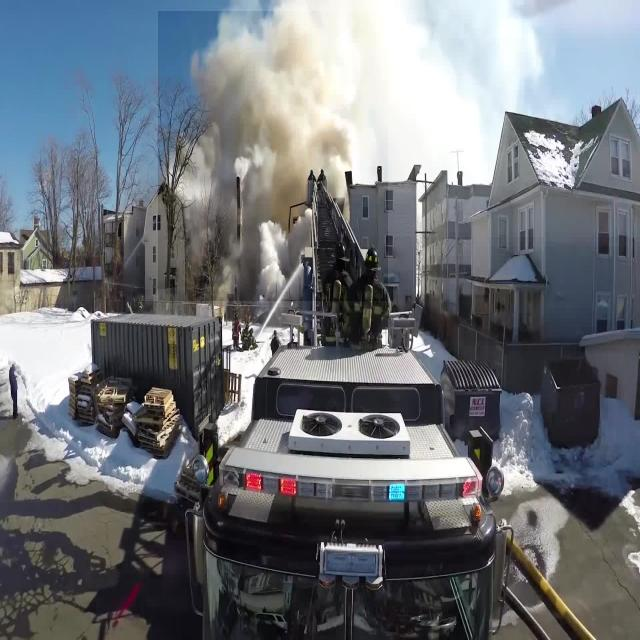Smoke: (158, 11, 388, 301)
